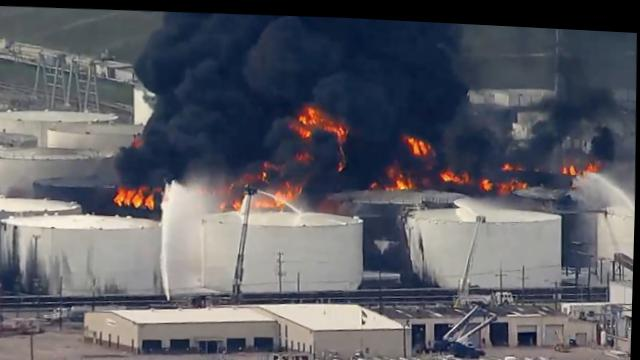fire: (114, 182, 161, 207), (295, 100, 317, 135), (406, 132, 434, 153), (438, 163, 472, 179), (320, 112, 346, 131), (391, 169, 412, 185), (283, 182, 301, 197), (561, 155, 578, 170), (255, 197, 280, 206), (480, 173, 498, 185), (229, 196, 248, 207), (503, 156, 511, 167)
smoke: (121, 5, 638, 117), (108, 96, 292, 182), (348, 98, 632, 138), (437, 127, 636, 153), (342, 130, 390, 190), (310, 139, 338, 210)
